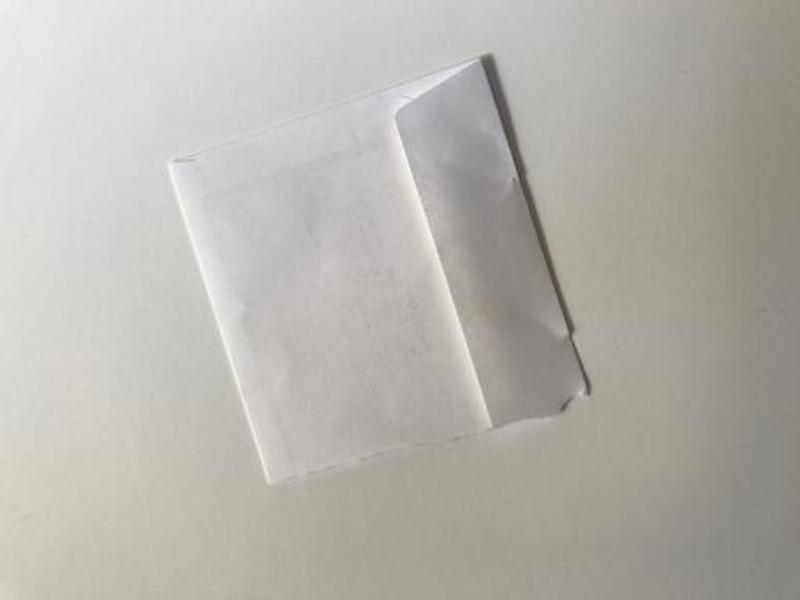paper: (155, 54, 596, 490)
